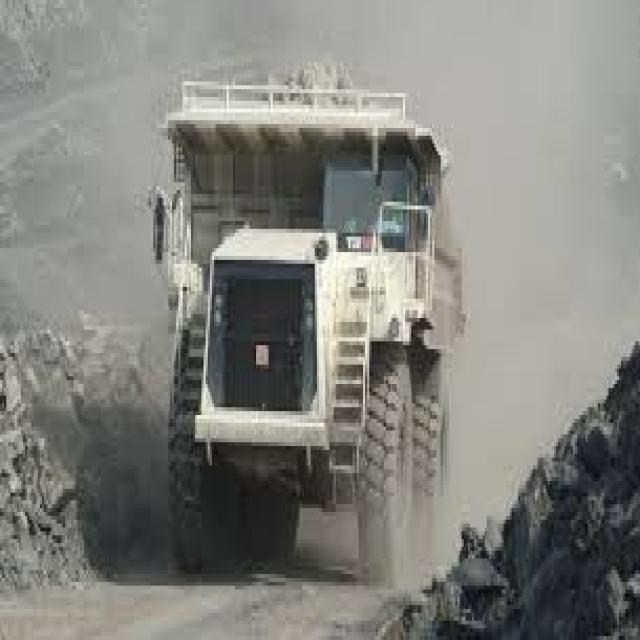dump_truck: (122, 39, 480, 593)
